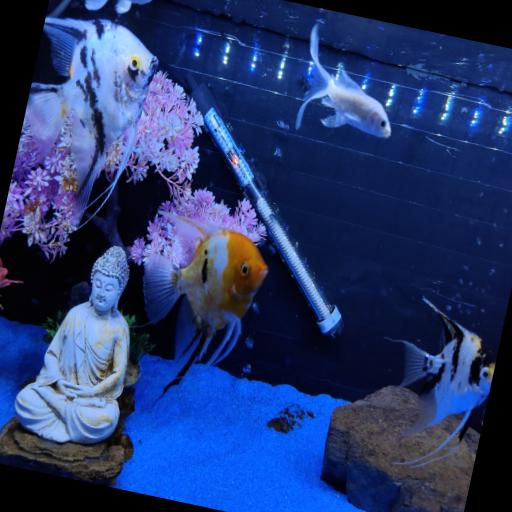Fish: (24, 18, 157, 225), (142, 212, 267, 391), (399, 298, 494, 467), (295, 25, 390, 138), (115, 0, 151, 13)
